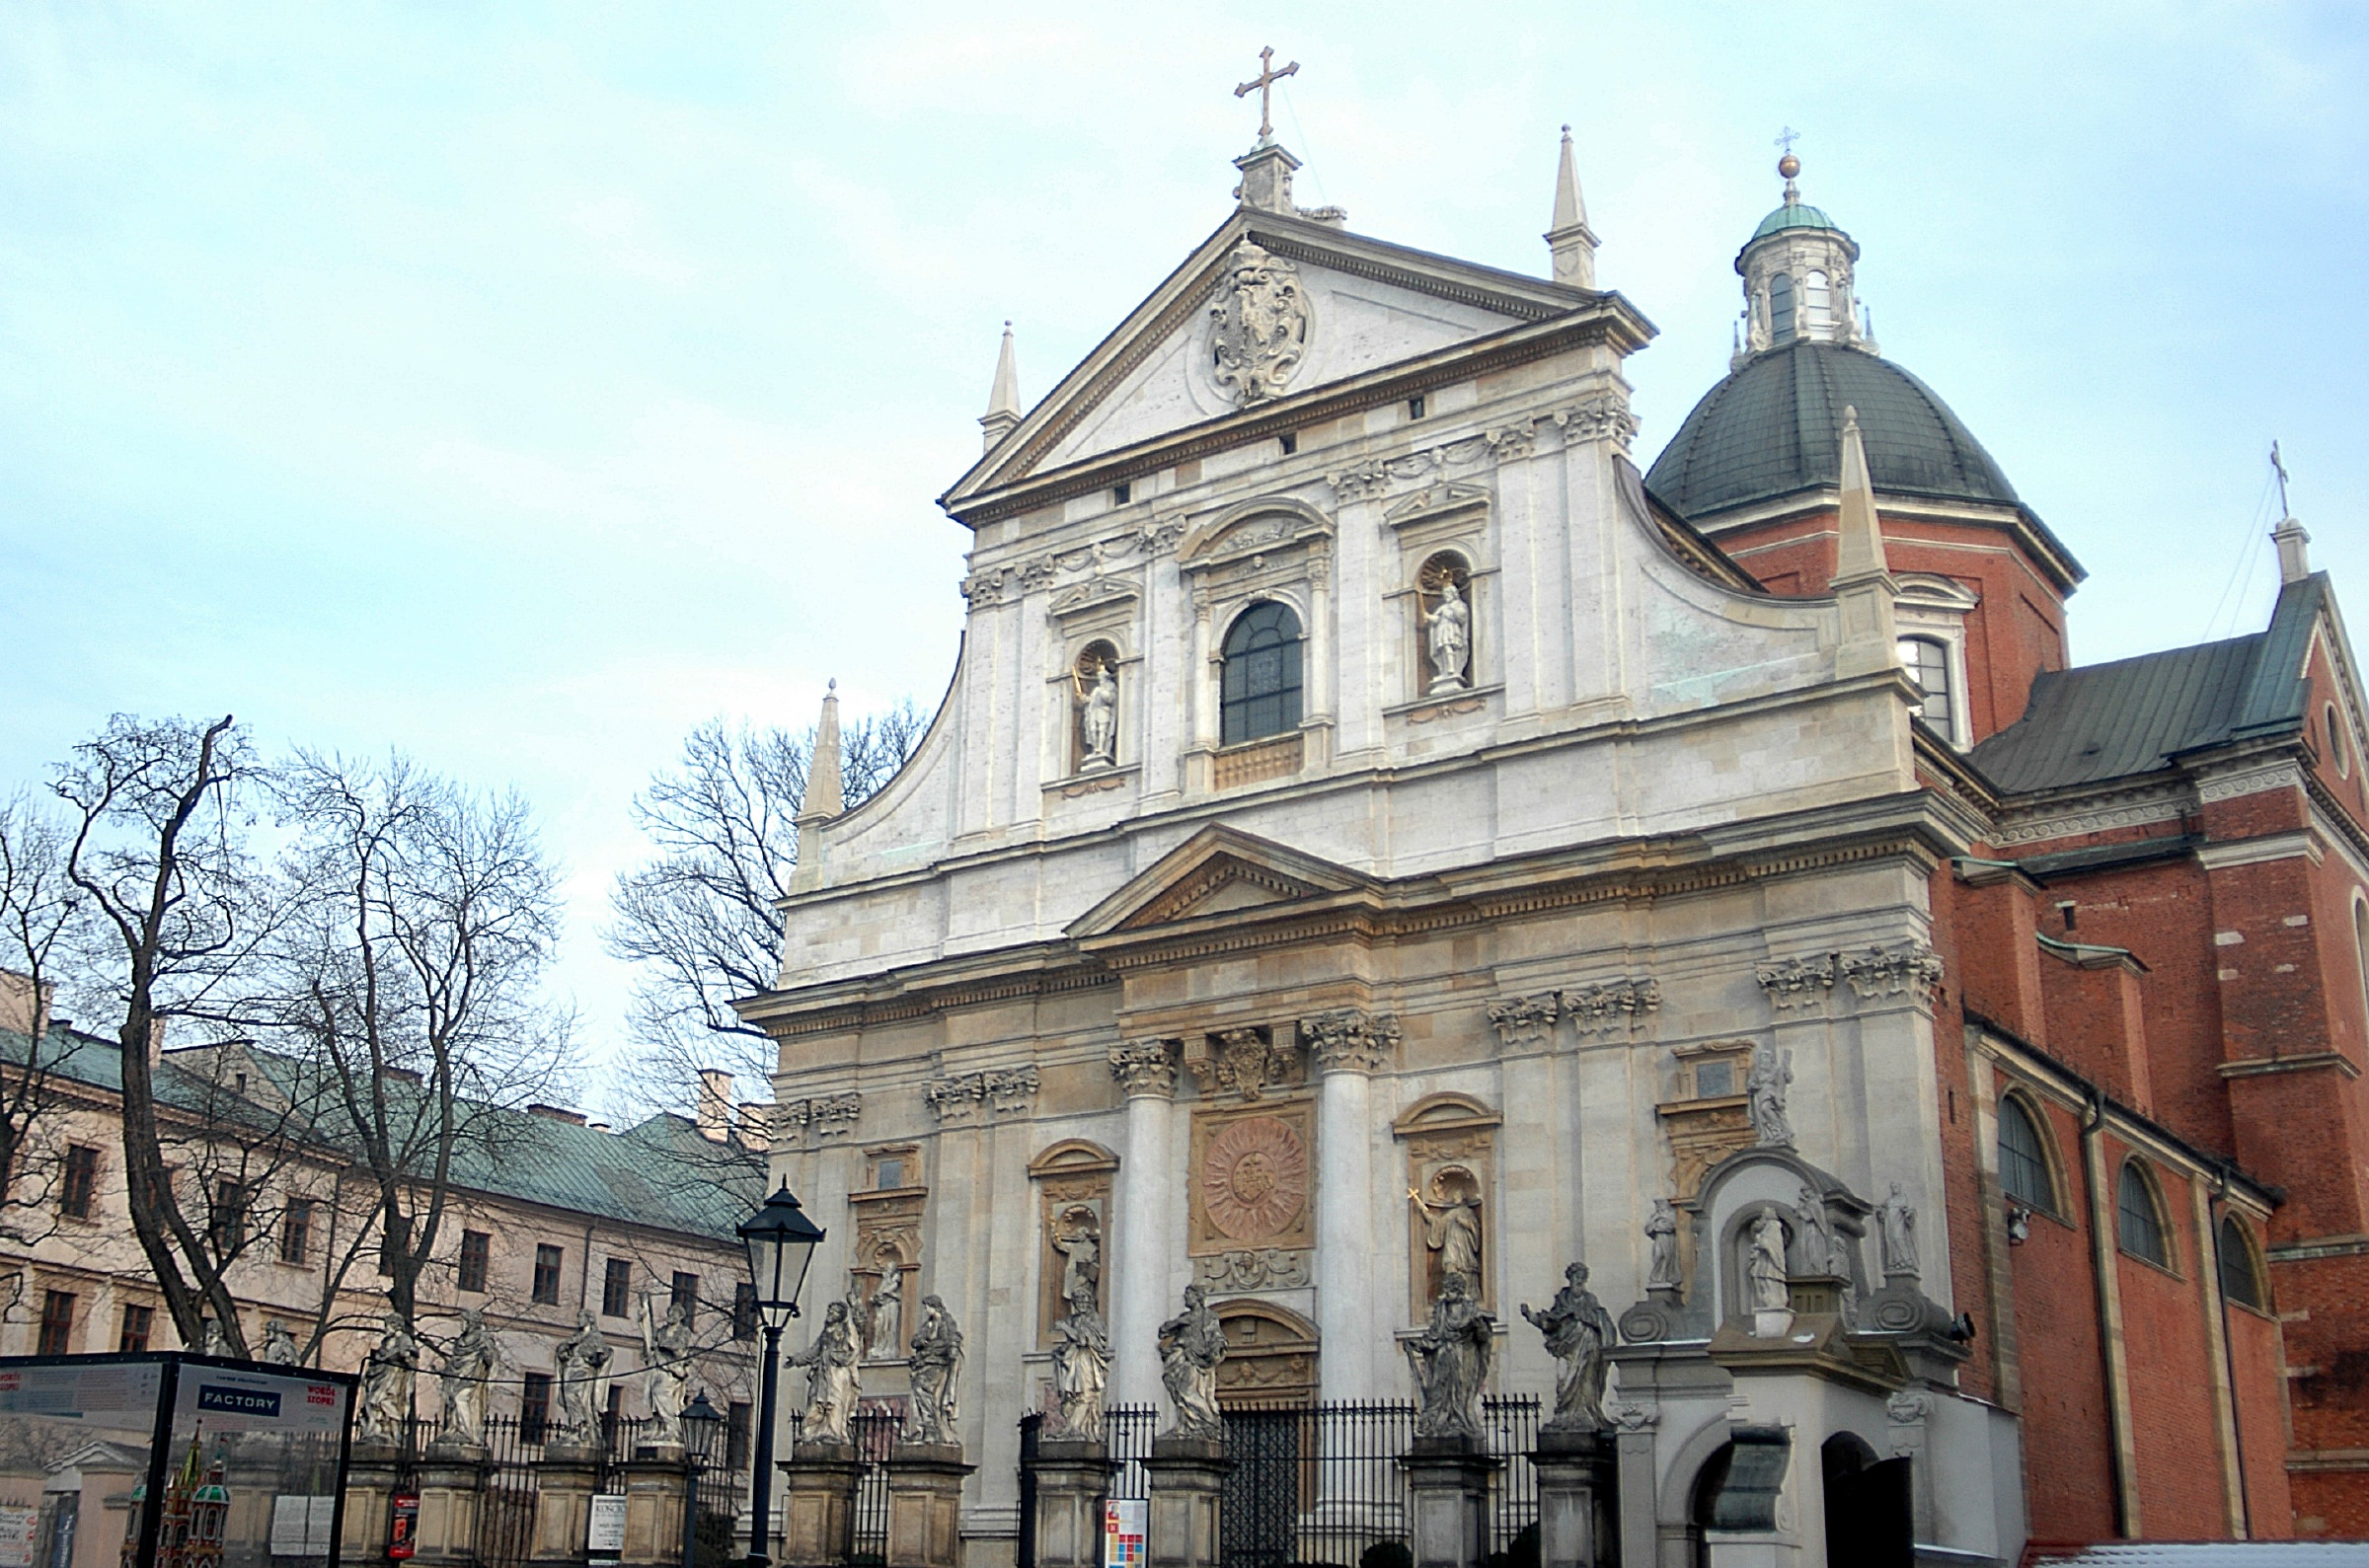Church: (728, 47, 2028, 1517)
